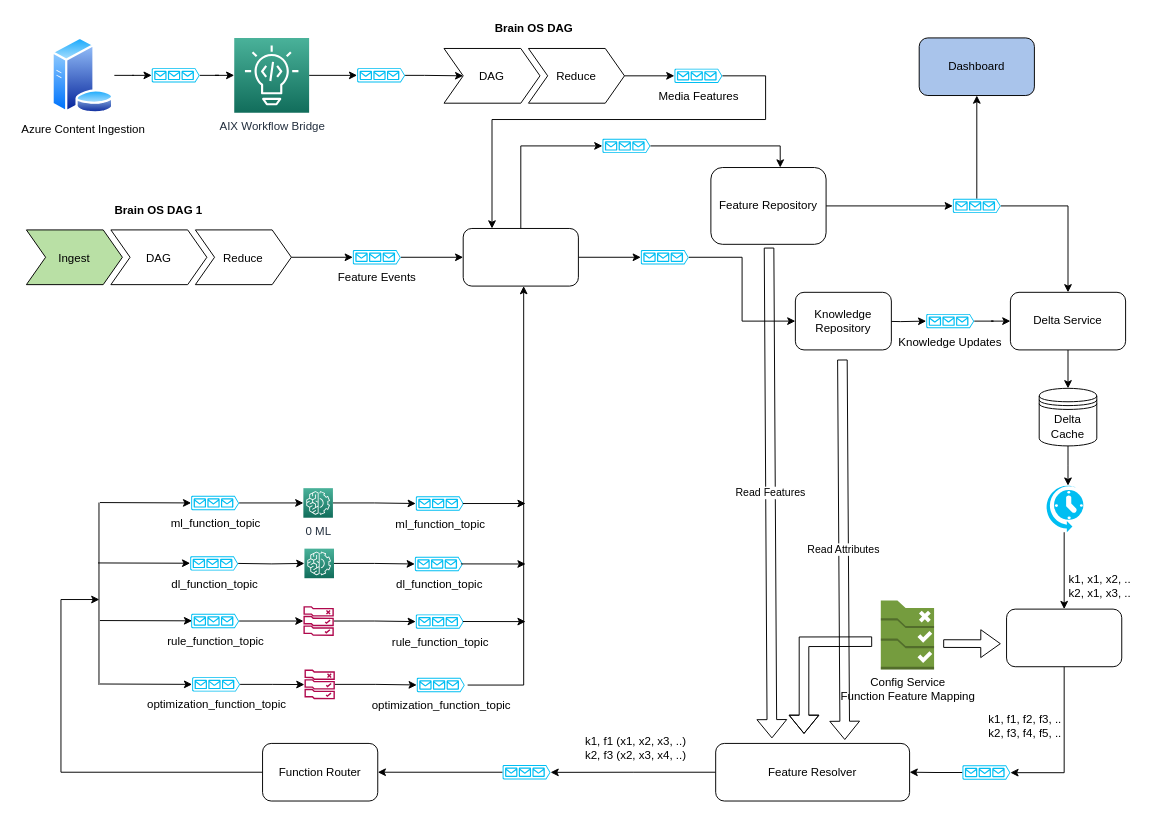
Image size: 1149x818. Some labels were removed from this diagram. Each missing label, with the box of its shape:
15 minute Scheduler: (1044, 484, 1083, 532)
AIX Bridge: (303, 548, 334, 578)
Attribute Updates: (640, 250, 688, 264)
Content Updates: (151, 68, 199, 82)
Extracted Entities: (357, 68, 405, 82)
Feature Updates 1: (602, 138, 650, 153)
Feature Updates 2: (952, 198, 1000, 213)
Function Resolver: (1006, 608, 1122, 667)
Keys & Functions: (962, 765, 1010, 779)
Keys, Features & Functions: (502, 765, 550, 779)
Optimization: (304, 669, 334, 699)
Repository Router: (462, 228, 578, 286)
Rule Engine Bridge: (303, 606, 333, 635)
